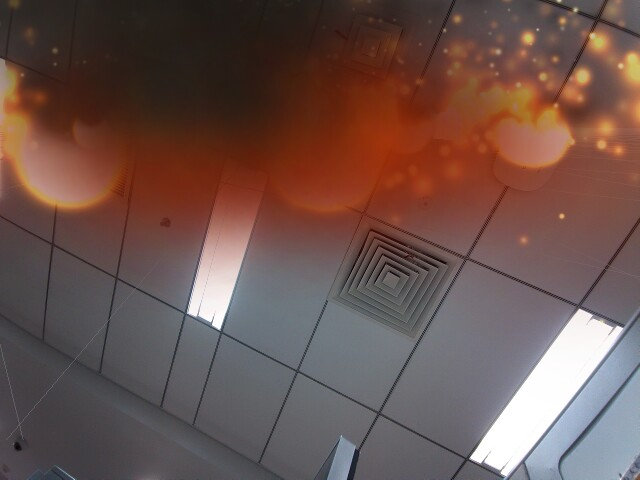fire: (267, 111, 380, 216), (15, 108, 129, 212), (494, 108, 575, 168), (387, 113, 435, 157), (70, 114, 118, 154)
